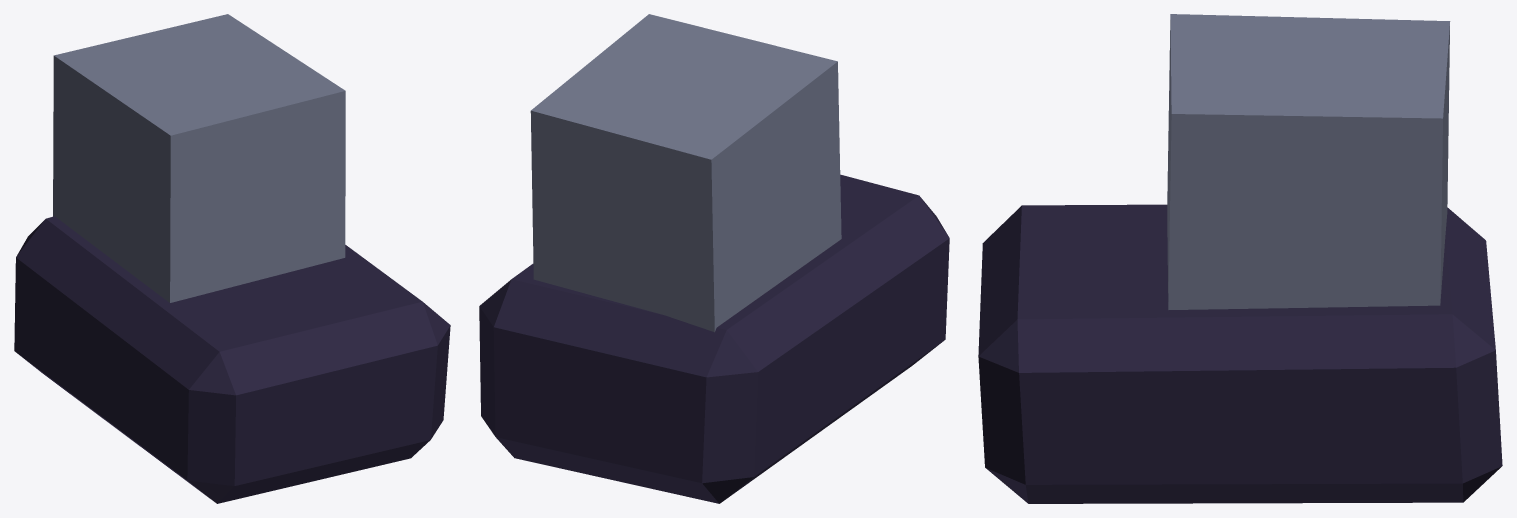
Rendered from guard_leg.fbx.
The picture shows the model from 3 angles, left to right: view 1: azimuth 30°, elevation 25°; view 2: azimuth 150°, elevation 25°; view 3: azimuth 270°, elevation 25°; orthographic projection. The views are drawn at different scales.
Visible parts, largest first — view 1: guard_leg; view 2: guard_leg; view 3: guard_leg.
Boxes of the visible parts, box(x1,y1,x2,y2) form: guard_leg: box(14, 14, 450, 503); guard_leg: box(479, 14, 949, 503); guard_leg: box(978, 14, 1502, 503).
Bounding box in the file's own units: 0.2596 × 0.3107 × 0.3813.
